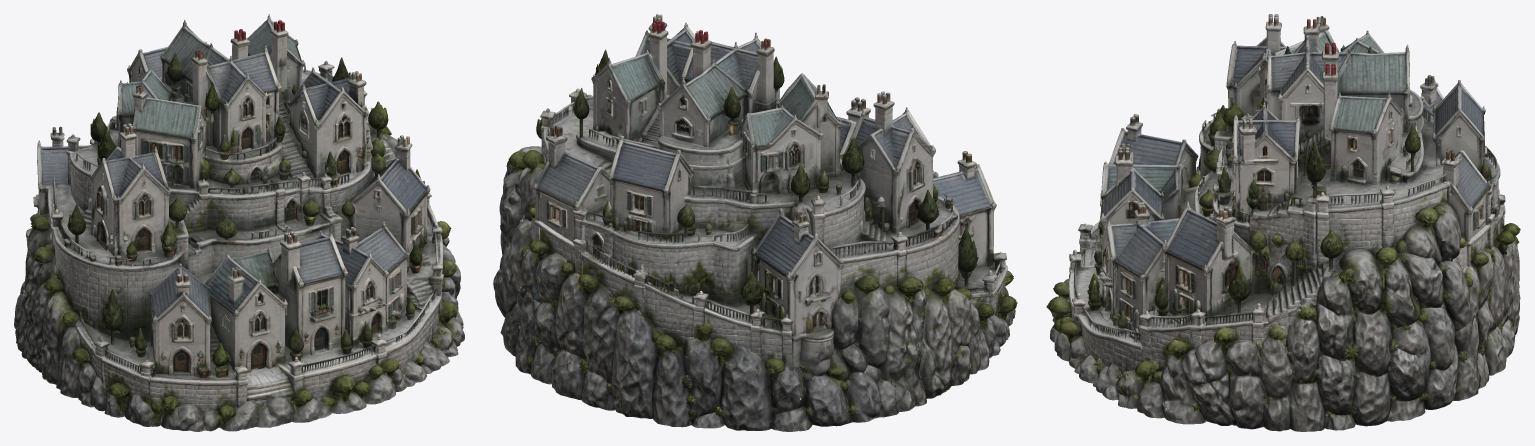
Rendered from medieval_village.glb.
The picture shows the model from 3 angles, left to right: view 1: azimuth 30°, elevation 25°; view 2: azimuth 150°, elevation 25°; view 3: azimuth 270°, elevation 25°; orthographic projection. The views are drawn at different scales.
Size of the model in its own units: 0.9804 by 0.6764 by 0.9675.
Materials: 1 (1 with a texture image).
